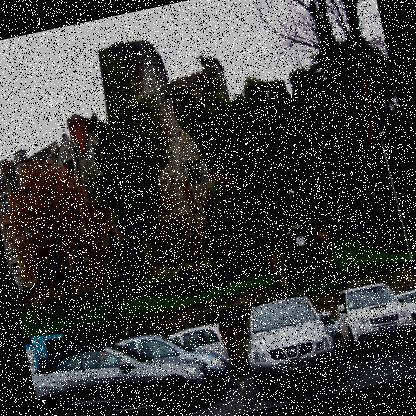Car: (24, 258, 415, 415)
